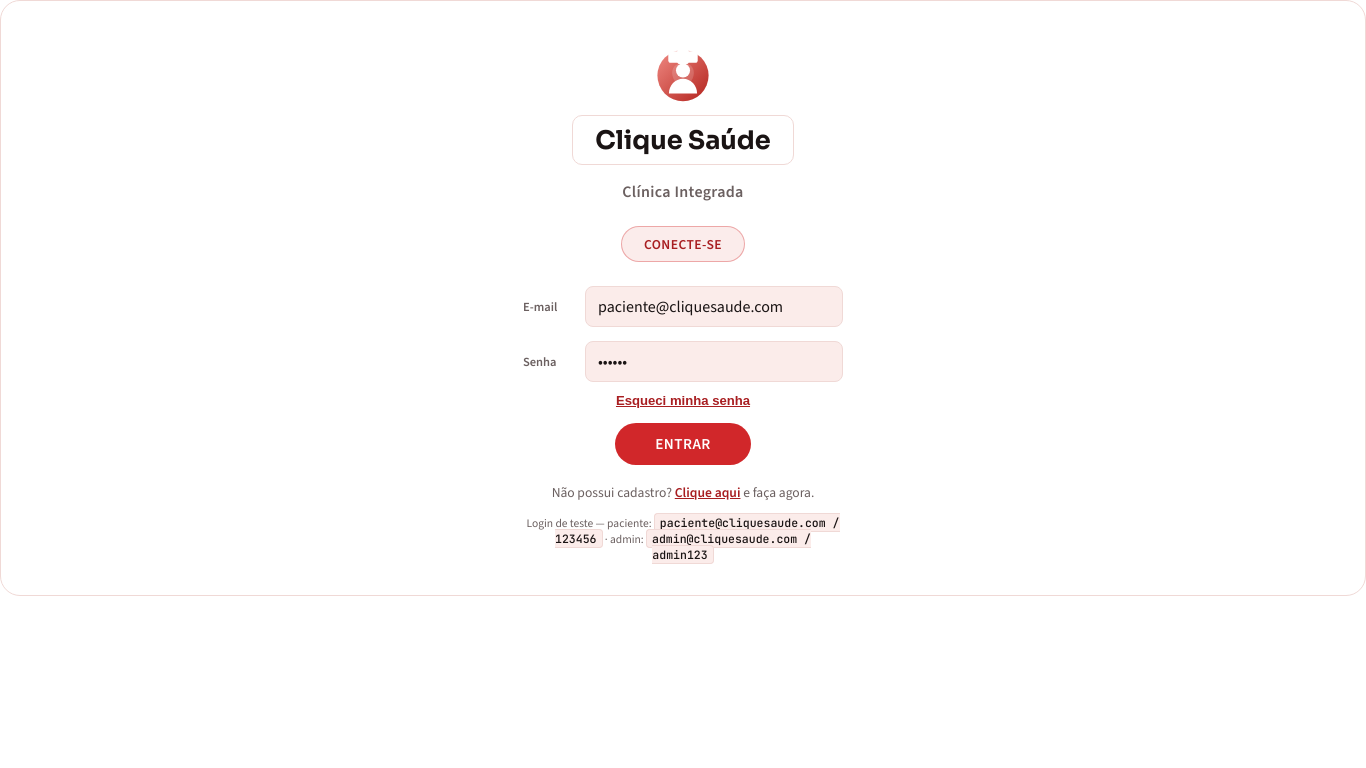
Página Login › exibe a mensagem de erro quando o login falha
Click the button "ENTRAR" at (683, 444), box [615,423,751,465]
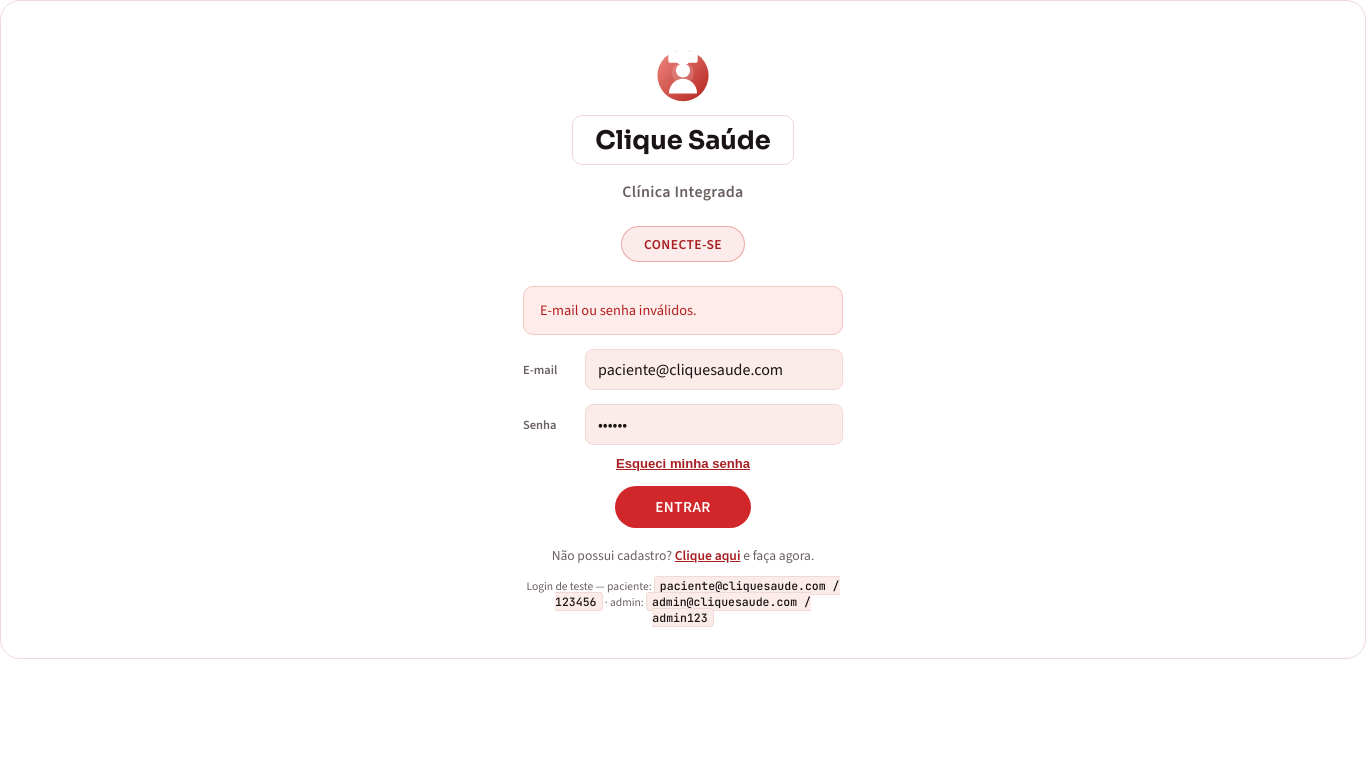
Now the text "E-mail ou senha inválidos." is shown, box [540,301,696,320]
